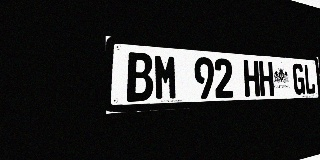2: (214, 58, 233, 98)
9: (194, 57, 215, 99)
B: (126, 52, 154, 102)
G: (292, 63, 305, 95)
H: (243, 60, 260, 97), (259, 61, 274, 96)
L: (304, 64, 316, 94)
M: (153, 54, 178, 101)
